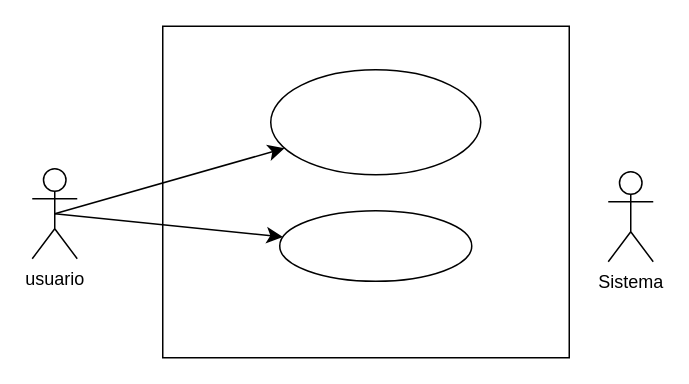
The diagram is 689 pixels wide and 384 high, and some of its shapes have lost their labels. The shapes that lost their labels are listed below. From the top down, each one's centre as x and y in pixels, then its label:
point 375,121: ingresar a visualizar reserva
point 375,245: ver reservas
